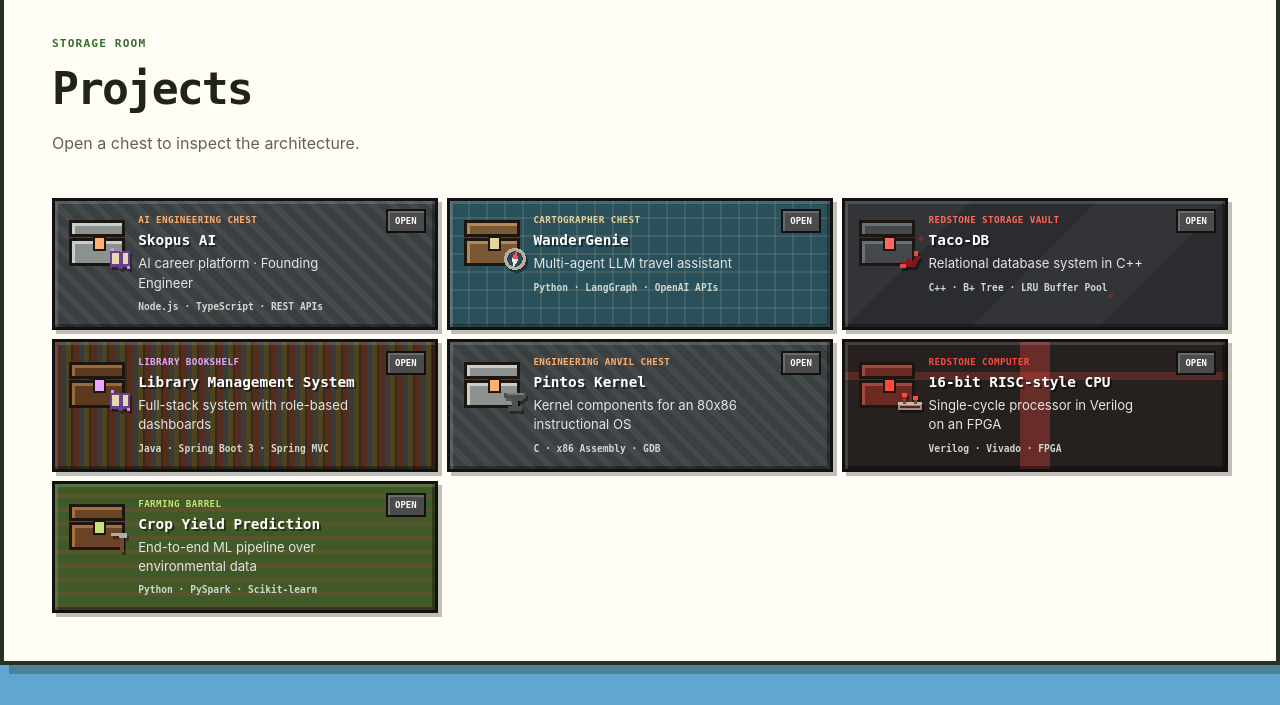
Test: Projects storage room › opens WanderGenie with its summary, stack and links
The width and height of the screenshot is (1280, 705).
Click the button "Open" next to "Multi-agent LLM travel assistant".
click(801, 221)  # box left=450, top=200, right=830, bottom=327
(page scrolled)
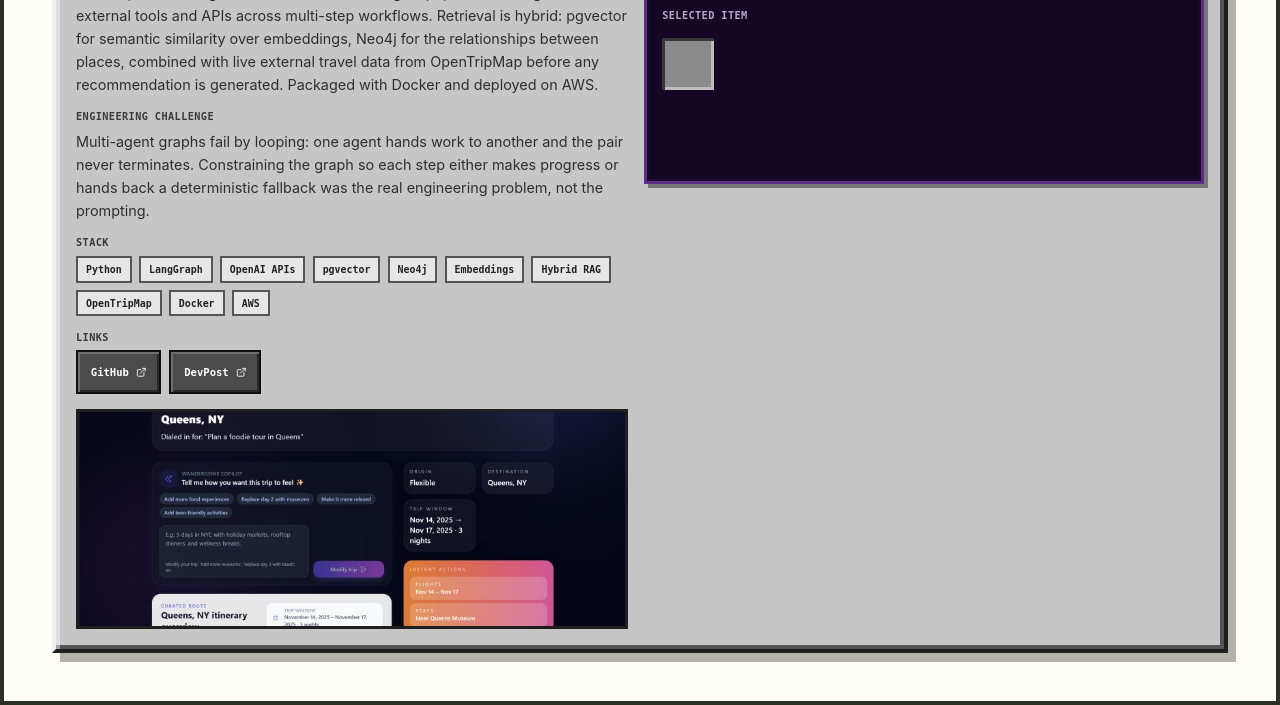
Now the list item "Python" is shown, box left=76, top=256, right=132, bottom=283
Now the list item "LangGraph" is shown, box left=139, top=256, right=213, bottom=283
Now the list item "OpenAI APIs" is shown, box left=220, top=256, right=306, bottom=283
